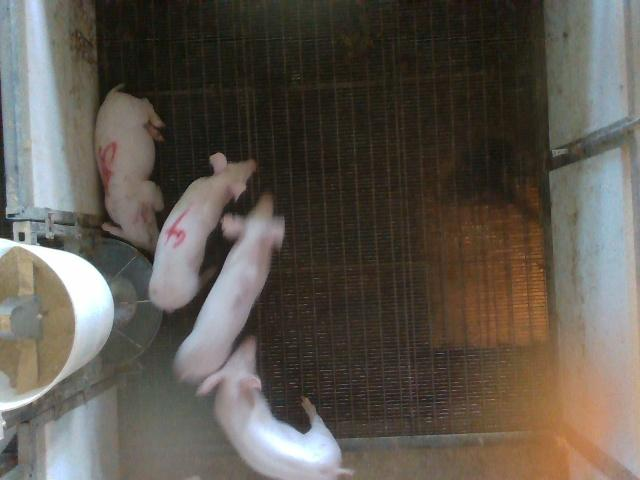pig-2: (174, 194, 285, 382)
pig-4: (149, 154, 256, 311)
pig-5: (95, 85, 164, 253)
